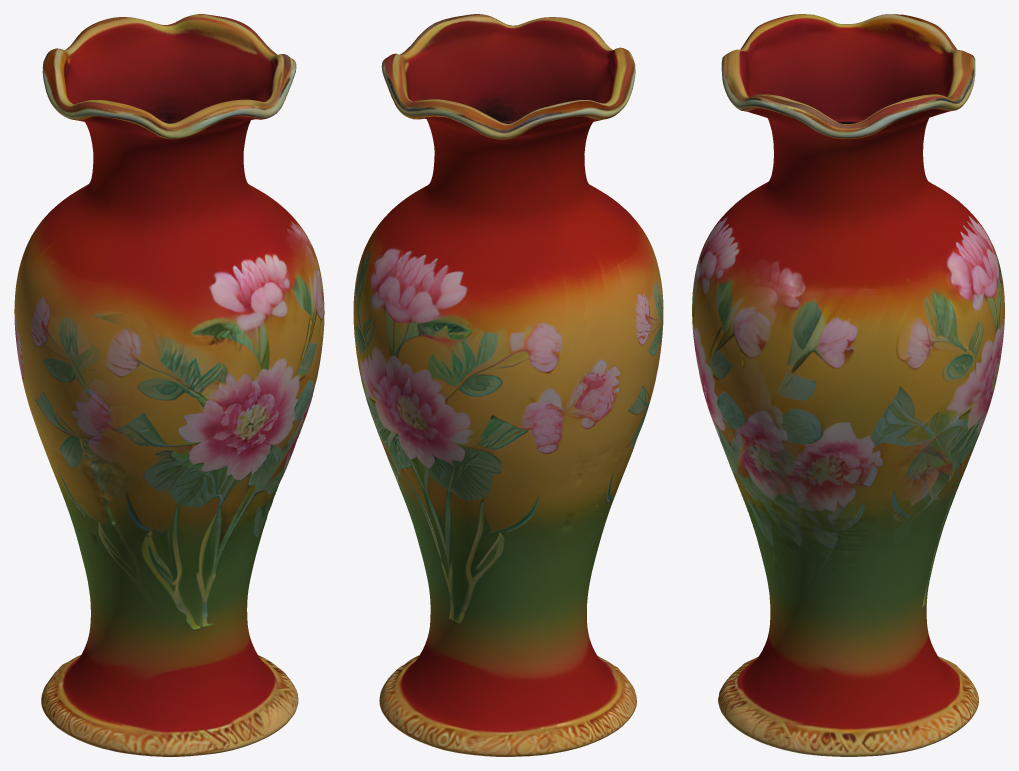
Rendered from romantex_11.glb.
3 renders of one model, left to right at view 1: azimuth 30°, elevation 25°; view 2: azimuth 150°, elevation 25°; view 3: azimuth 270°, elevation 25°, orthographic.
Visible parts, largest first — view 1: texture_v130_hdr_21w_pbr_dino_11w.001; view 2: texture_v130_hdr_21w_pbr_dino_11w.001; view 3: texture_v130_hdr_21w_pbr_dino_11w.001.
Boxes of the visible parts, box(x1,y1,x2,y2) form: texture_v130_hdr_21w_pbr_dino_11w.001: box(14, 14, 324, 756); texture_v130_hdr_21w_pbr_dino_11w.001: box(353, 14, 663, 756); texture_v130_hdr_21w_pbr_dino_11w.001: box(692, 14, 1004, 756).
Bounding box in the file's own units: 0.8732 × 2 × 0.879.
Materials: 1 (1 with a texture image).
